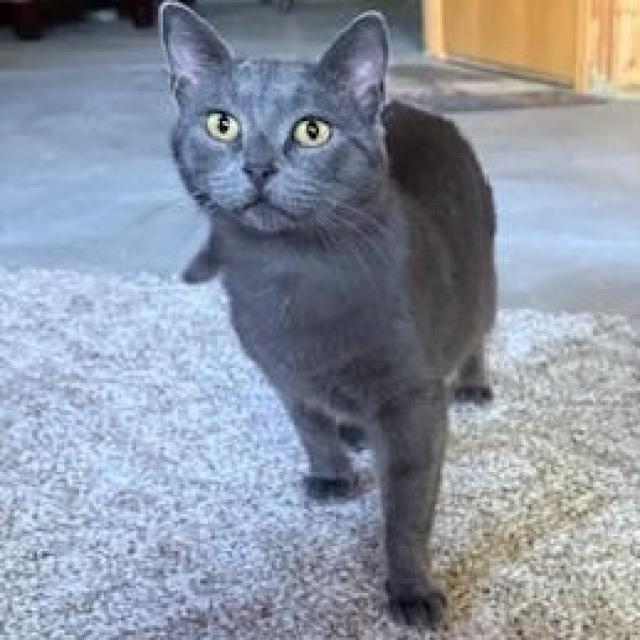russian_blue_cat: (150, 1, 415, 259)
